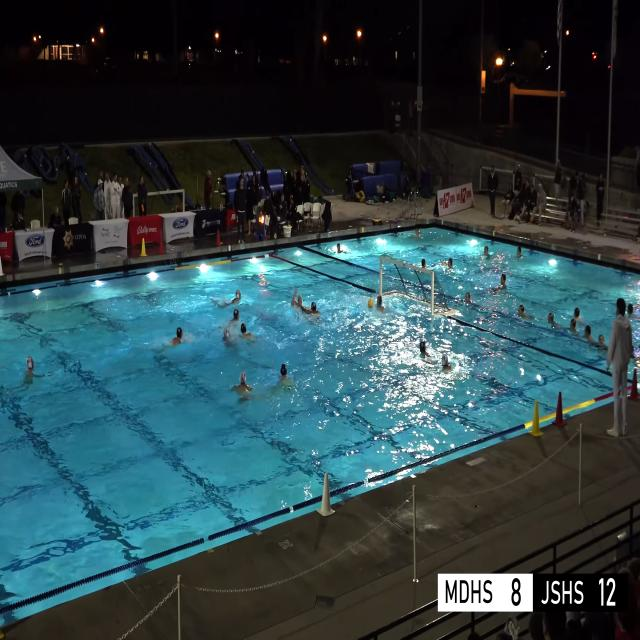ball: (368, 299, 374, 308), (441, 262, 446, 265), (287, 224, 291, 227)
